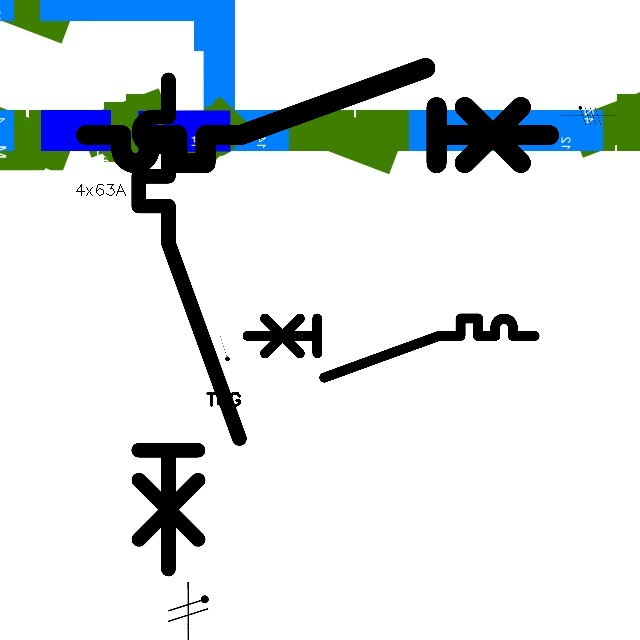interruptor_termomagnetico: (126, 67, 252, 581), (74, 56, 561, 175), (240, 311, 542, 385)
